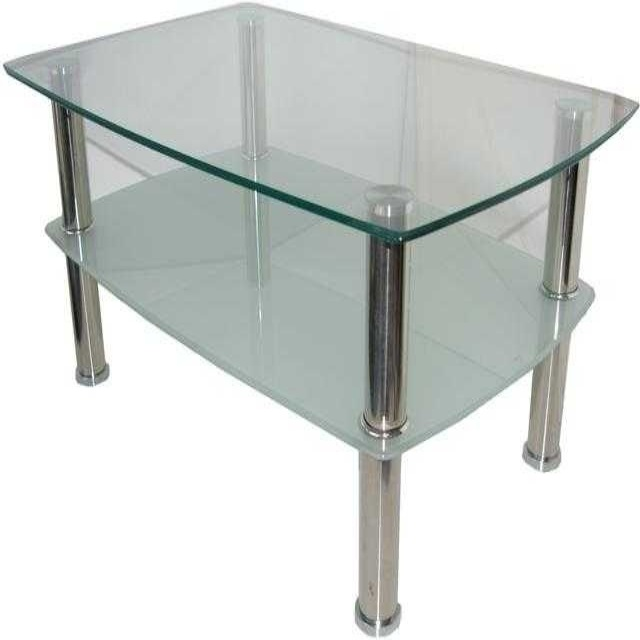obstacle: (0, 0, 363, 637), (394, 110, 639, 636), (259, 0, 639, 99)
